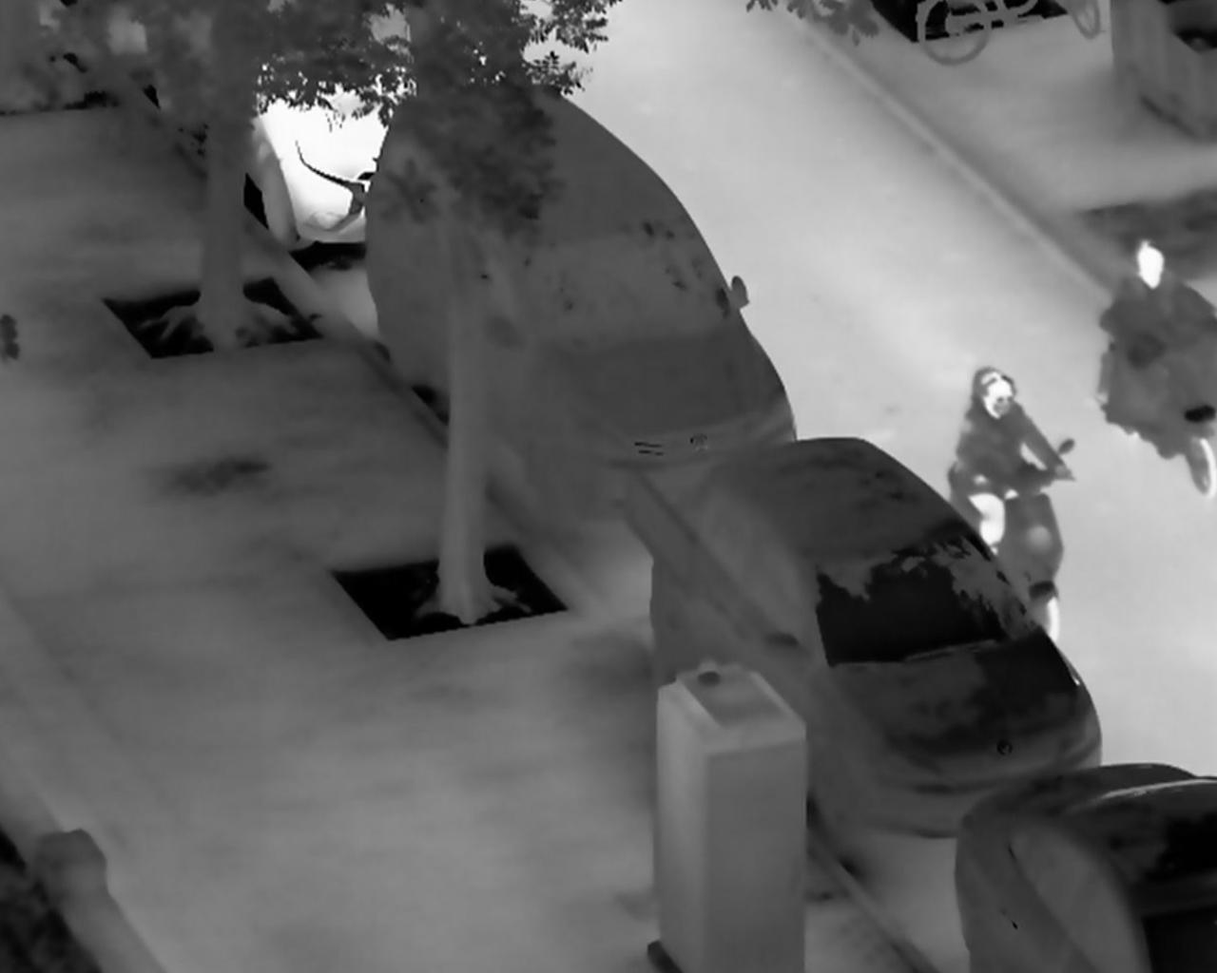person: (953, 367, 1073, 563), (1092, 238, 1214, 396)
